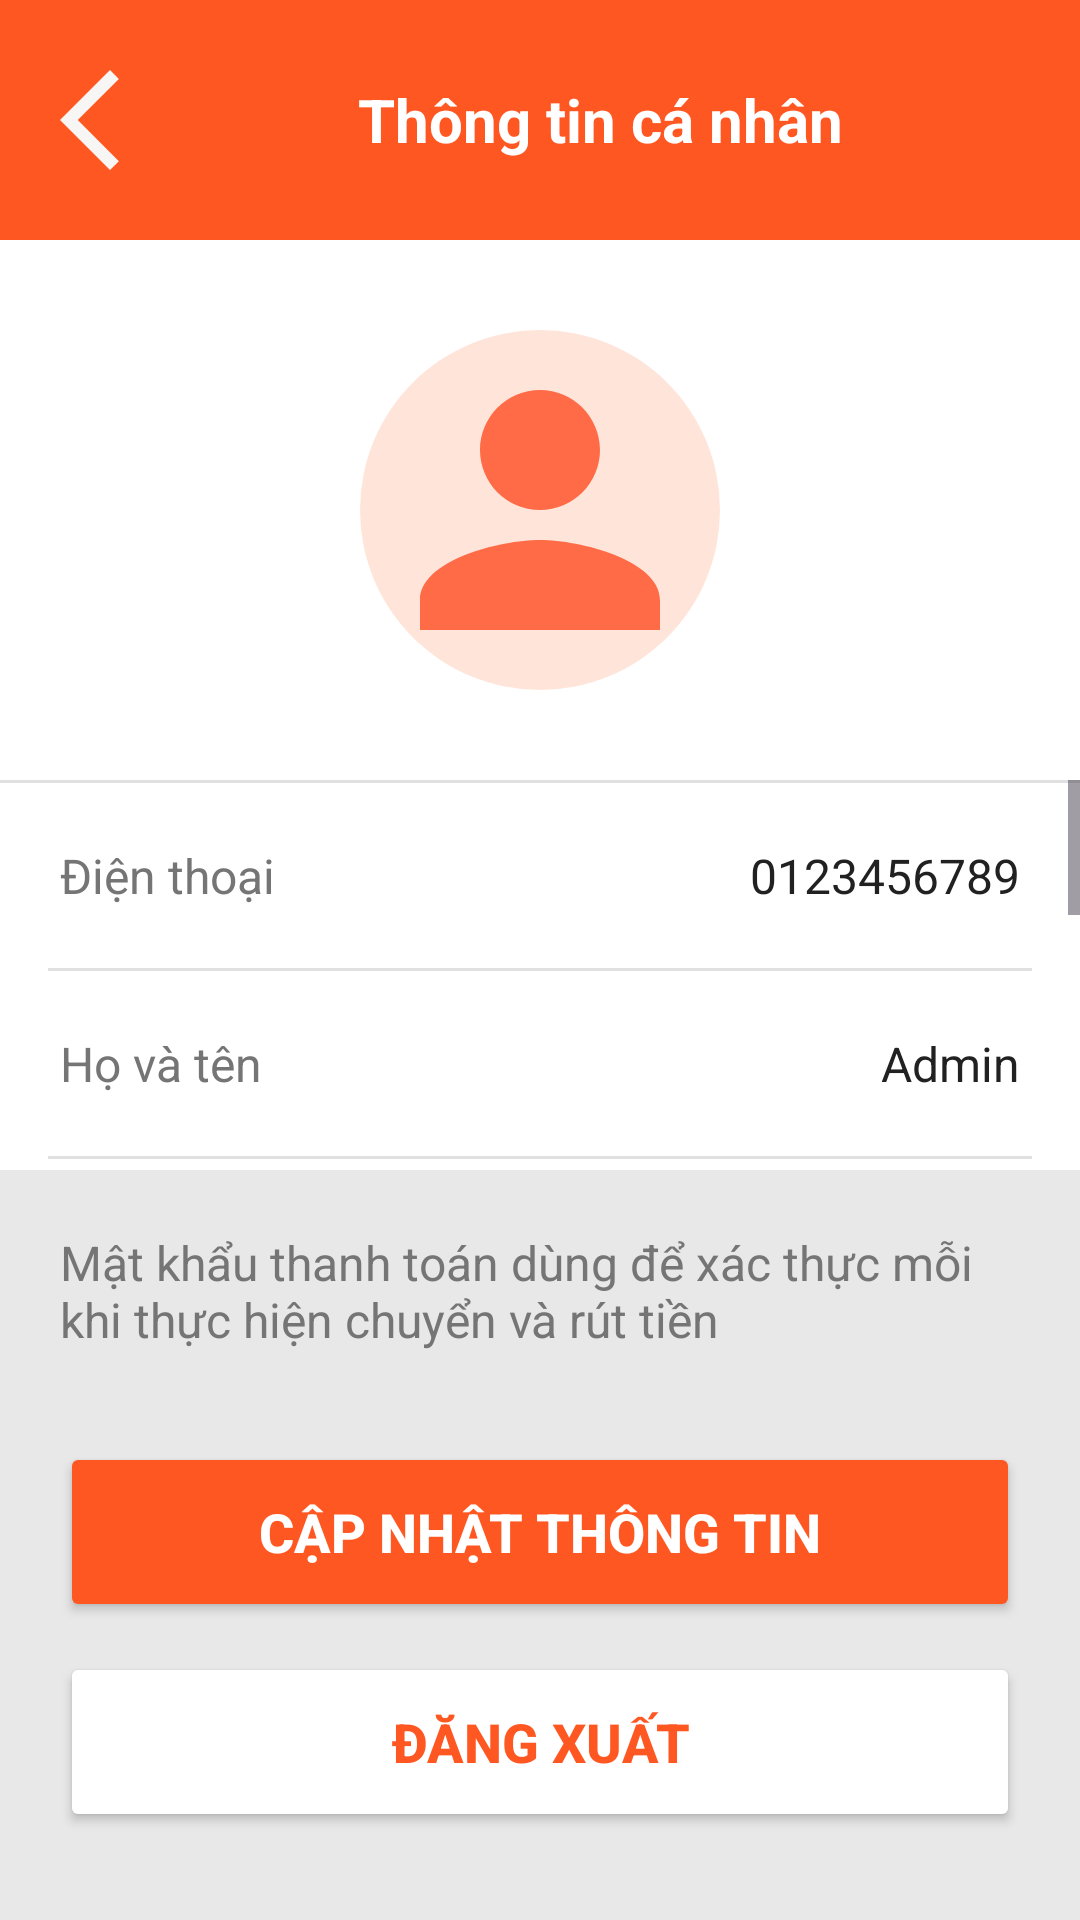

Where to tap for icons on this 1080*1920 app screen, as point (x, y):
back: point (89, 120)
person: point (540, 510)
